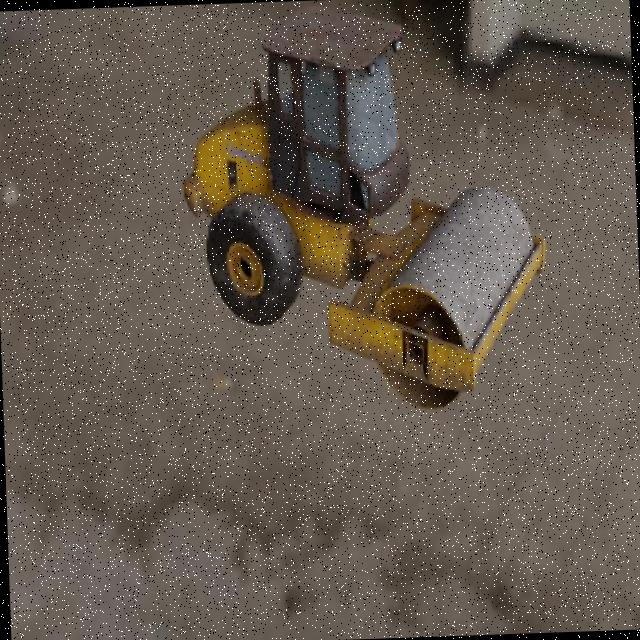Roller: (175, 0, 550, 419)
